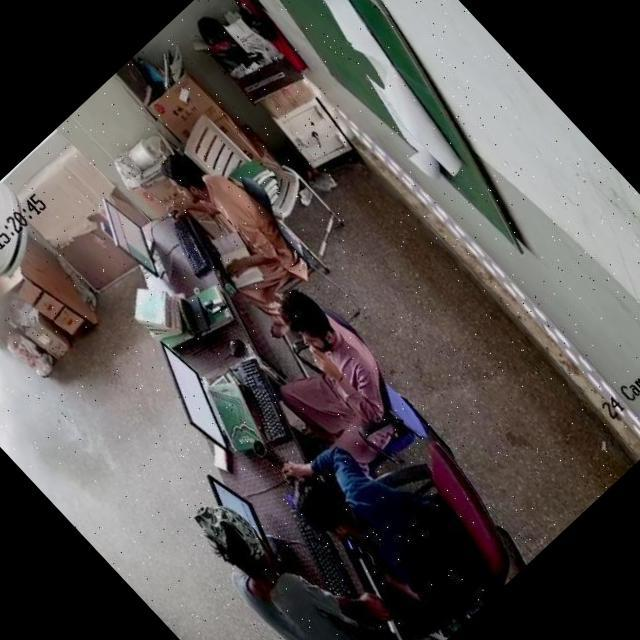person: (268, 409, 488, 633), (181, 489, 403, 640), (140, 134, 318, 318), (238, 277, 412, 455)
